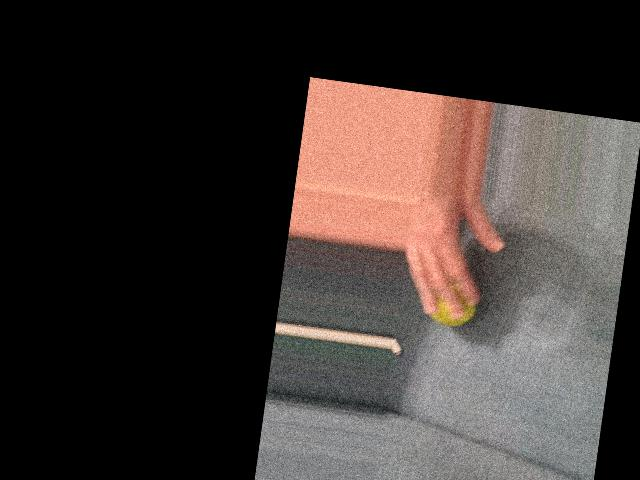apple: (413, 249, 487, 344)
